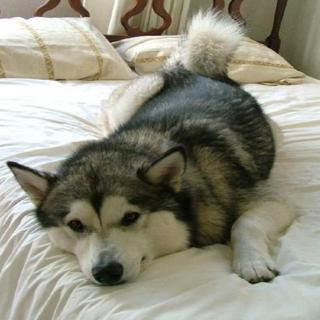dog: (6, 144, 200, 297)
nose: (89, 259, 130, 289)
